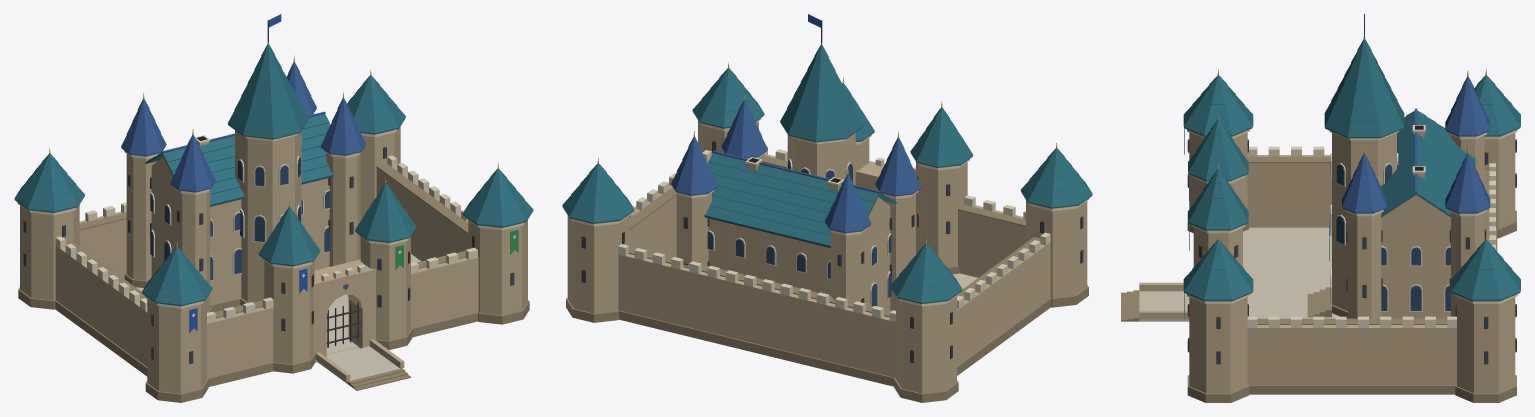
File: Castle.fbx
The picture shows the model from 3 angles, left to right: view 1: azimuth 30°, elevation 25°; view 2: azimuth 150°, elevation 25°; view 3: azimuth 270°, elevation 25°; orthographic projection. The views are drawn at different scales.
Parts seen in each view (by area): view 1: Castle; view 2: Castle; view 3: Castle.
Part boxes in pixels (x1,y1,x2,y2): Castle: [14, 14, 533, 402]; Castle: [562, 14, 1092, 402]; Castle: [1121, 14, 1520, 402].
Bounding box in the file's own units: 37.71 × 26.9 × 32.86.
